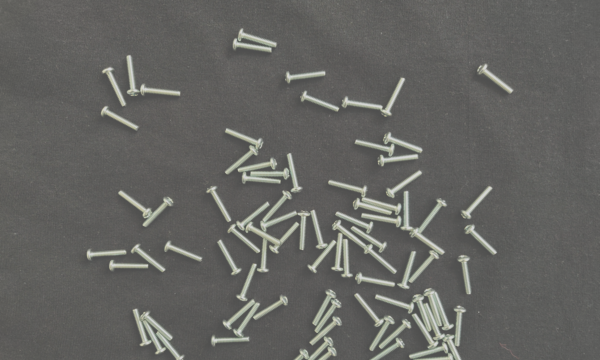longscrew: (476, 61, 515, 97), (332, 220, 370, 253), (298, 89, 343, 116), (141, 196, 176, 230), (460, 186, 494, 221), (384, 171, 425, 200), (464, 224, 500, 257), (417, 198, 448, 236), (101, 66, 128, 109), (408, 250, 441, 285), (378, 318, 413, 351), (308, 316, 344, 348), (306, 239, 338, 275), (353, 293, 385, 329), (100, 105, 141, 133), (130, 243, 167, 274), (380, 76, 407, 118), (269, 221, 302, 255), (227, 223, 262, 255), (140, 310, 175, 342), (222, 299, 257, 331), (232, 302, 262, 339), (409, 228, 447, 257), (216, 239, 244, 278), (364, 245, 399, 276), (205, 184, 232, 224), (117, 189, 153, 219), (411, 312, 440, 349), (252, 295, 290, 323), (351, 226, 389, 254), (224, 145, 259, 175), (236, 201, 271, 231), (314, 299, 343, 335), (383, 131, 426, 155), (368, 315, 395, 353), (262, 190, 293, 223), (334, 211, 376, 235), (164, 240, 204, 265), (141, 319, 167, 357), (311, 289, 337, 327), (224, 127, 265, 151), (374, 293, 415, 316), (156, 330, 187, 360), (246, 222, 283, 247), (433, 290, 455, 332), (259, 211, 299, 234), (237, 28, 278, 50), (131, 308, 153, 349), (424, 303, 447, 342), (361, 196, 403, 217), (423, 287, 444, 329), (236, 262, 258, 302), (355, 137, 396, 158), (367, 338, 406, 360), (412, 294, 433, 334), (353, 197, 394, 217), (310, 208, 329, 251), (354, 271, 397, 290), (340, 95, 385, 113), (397, 250, 417, 290), (327, 180, 369, 199), (408, 341, 450, 360), (302, 336, 335, 360), (286, 153, 305, 194), (232, 37, 274, 55), (140, 81, 182, 99), (456, 254, 474, 296), (236, 157, 279, 174), (125, 55, 141, 99), (283, 69, 329, 84), (443, 334, 469, 360), (361, 213, 403, 229), (85, 248, 128, 263), (399, 190, 414, 233), (453, 305, 468, 348), (241, 171, 283, 186), (340, 239, 355, 281), (377, 154, 421, 168), (108, 260, 150, 274), (331, 232, 345, 274), (257, 235, 271, 275), (297, 209, 310, 252), (210, 335, 252, 348), (250, 168, 291, 181), (303, 347, 338, 360), (276, 349, 310, 360), (412, 354, 457, 360)
